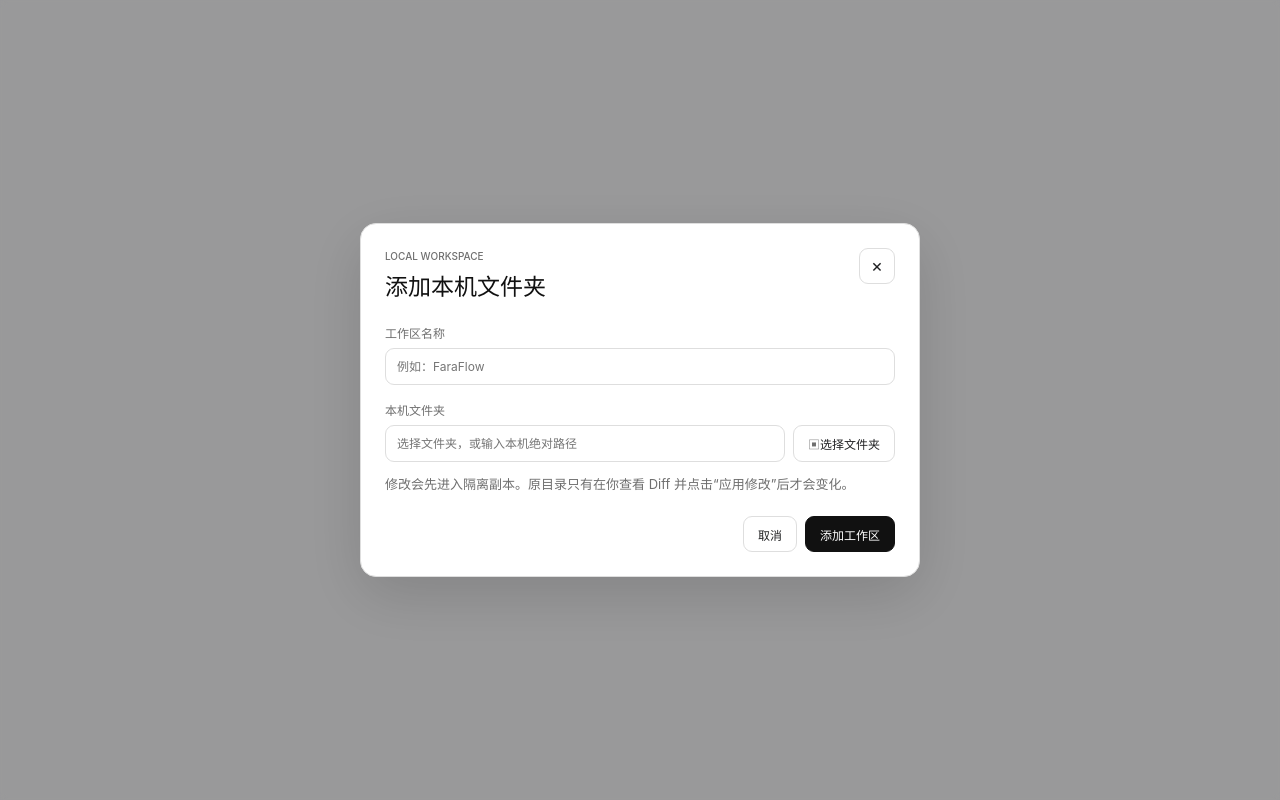
Test: local code workspace › fills the workspace fields from the native folder picker
Click the button "▣选择文件夹" at point(844, 443), box [793, 425, 895, 462]
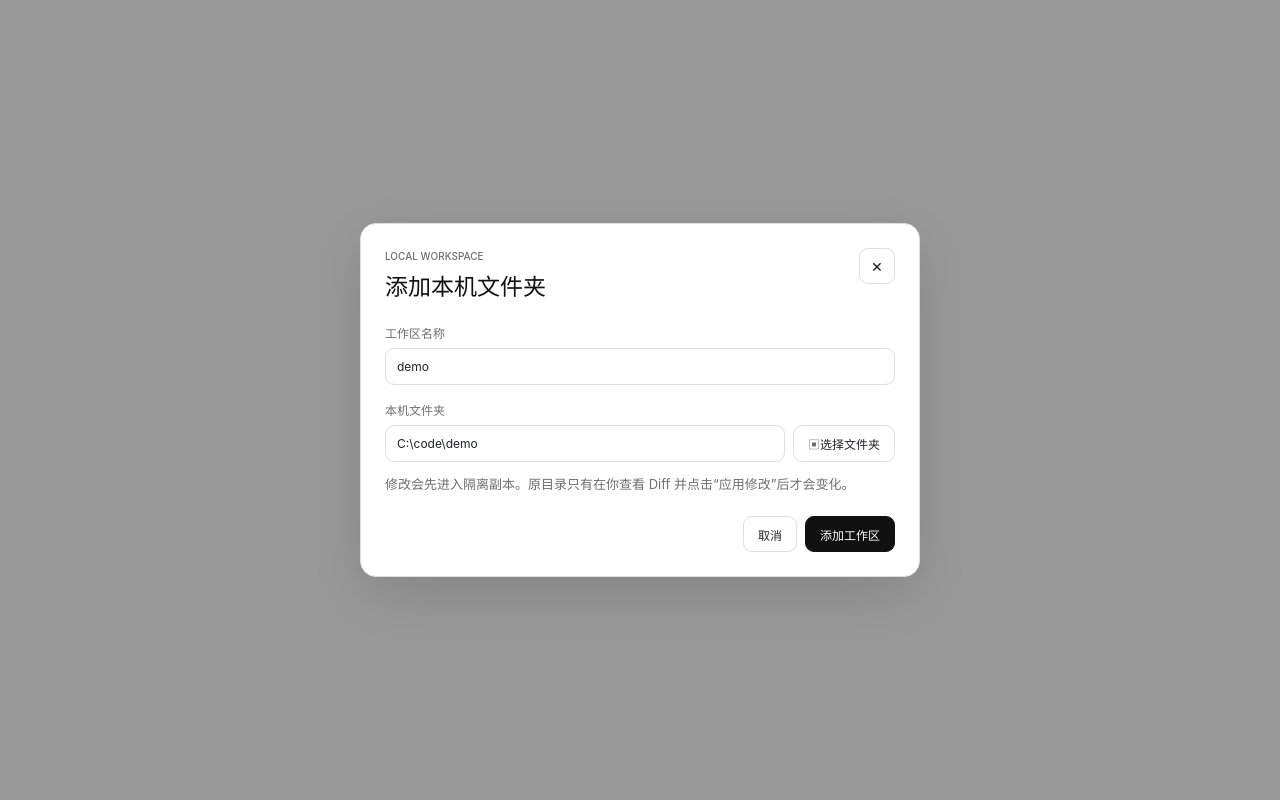
Check: the field labelled "工作区名称" holds "demo", box [385, 348, 895, 385]
Check: the field named "本机绝对路径" holds "C:\\code\\demo", box [385, 425, 785, 462]
